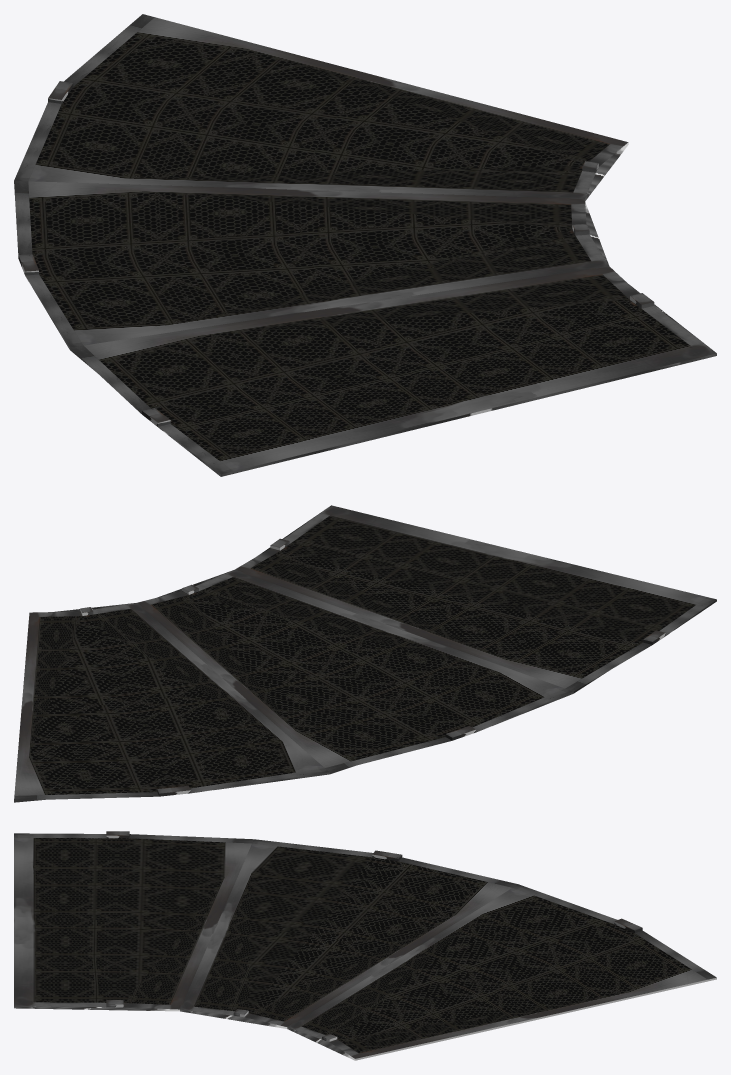
The model's file is Track60DegreeTurn.fbx.
3 views of the same model, one above another, from view 1: azimuth 30°, elevation 25°; view 2: azimuth 150°, elevation 25°; view 3: azimuth 270°, elevation 25° (orthographic). The views are drawn at different scales.
Parts seen in each view (by area): view 1: Track; view 2: Track; view 3: Track.
Part boxes in pixels (x1=…): Track: x1=14, y1=14, x2=716, y2=476; Track: x1=14, y1=505, x2=716, y2=802; Track: x1=14, y1=831, x2=716, y2=1060.
Bounding box in the file's own units: 5209 × 50 × 6861.
Materials: 1 (1 with a texture image).
